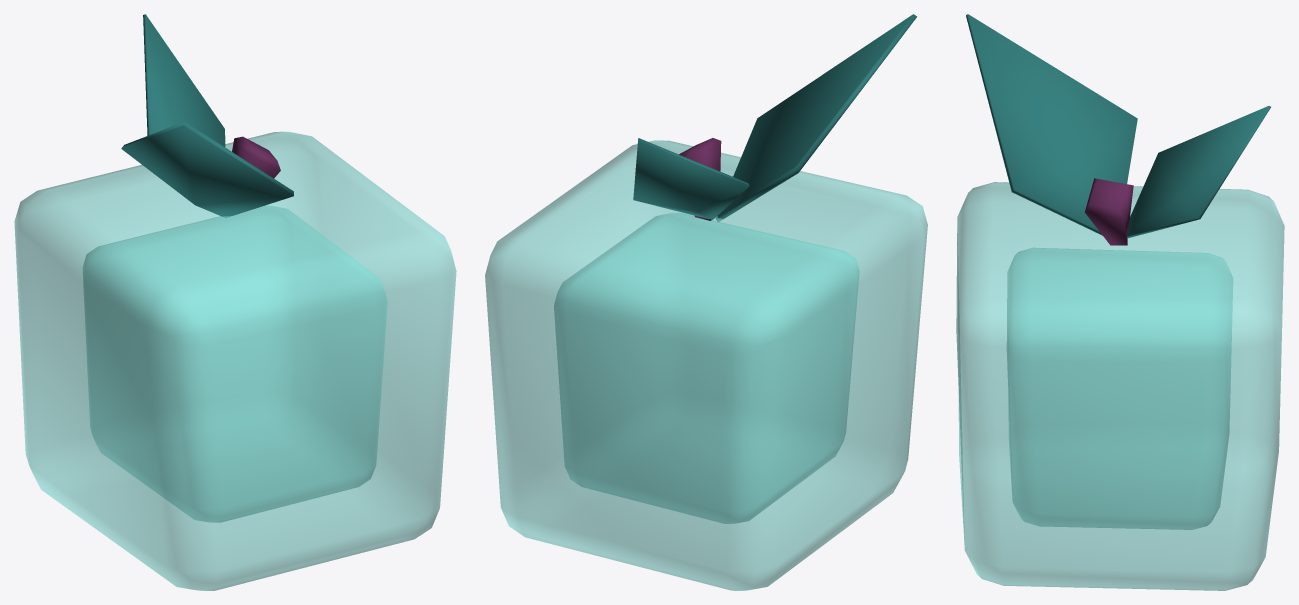
File: alchemy_glassFruit.fbx
3 views of the same model, side by side, from view 1: azimuth 30°, elevation 25°; view 2: azimuth 150°, elevation 25°; view 3: azimuth 270°, elevation 25° (orthographic). The views are drawn at different scales.
Visible parts, largest first — view 1: CubeFruit; view 2: CubeFruit; view 3: CubeFruit.
Part boxes in pixels (bbox=[...]): CubeFruit: bbox=[14, 14, 456, 590]; CubeFruit: bbox=[485, 14, 927, 590]; CubeFruit: bbox=[956, 14, 1284, 590].
Bounding box in the file's own units: 502 × 763 × 490.
